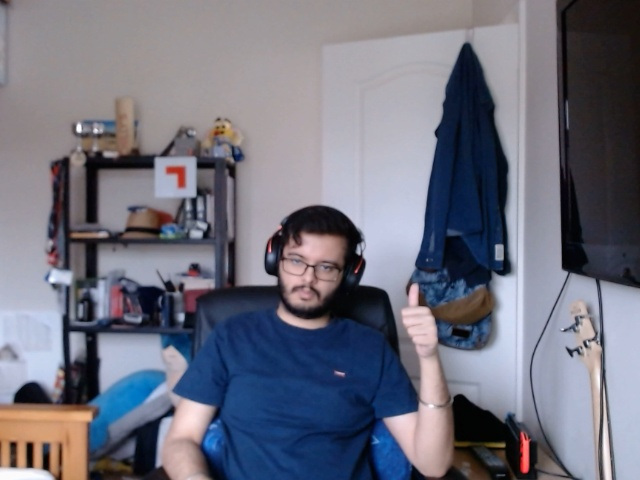Thumbs up: (395, 282, 446, 367)
